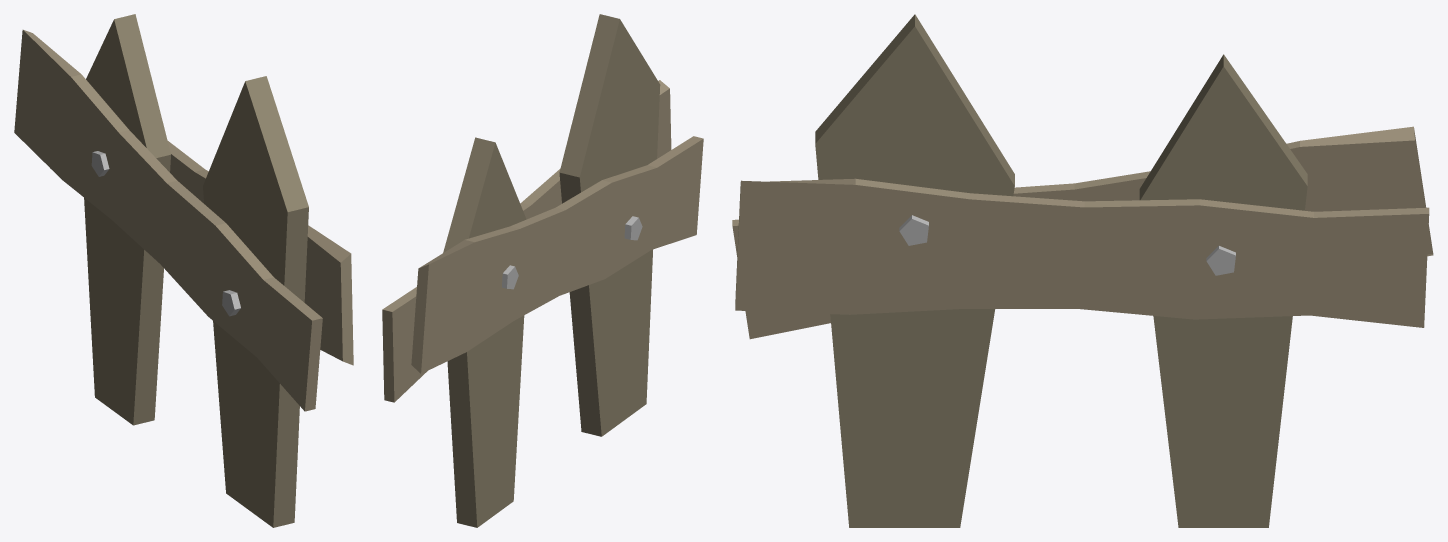
The model's file is Fence_Join2.fbx.
3 renders of one model, left to right at view 1: azimuth 30°, elevation 25°; view 2: azimuth 150°, elevation 25°; view 3: azimuth 270°, elevation 25°, orthographic. The views are drawn at different scales.
Visible parts, largest first — view 1: Fence_join2; view 2: Fence_join2; view 3: Fence_join2.
Boxes of the visible parts, bbox=[...] form: Fence_join2: bbox=[14, 14, 353, 527]; Fence_join2: bbox=[382, 14, 703, 527]; Fence_join2: bbox=[732, 14, 1433, 527].
Size of the model in its own units: 0.5228 by 3.81 by 4.83.
